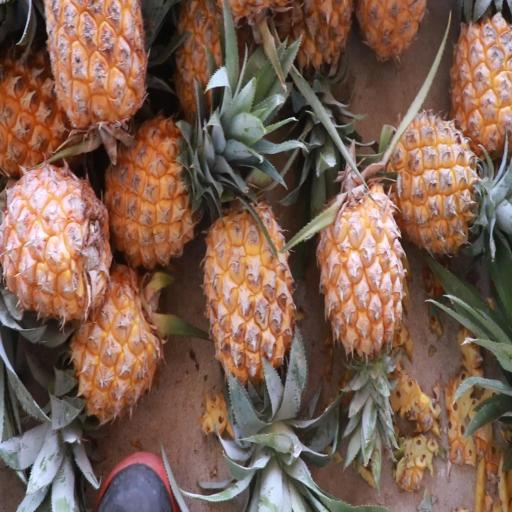Pineapple - v8 v1: (200, 198, 298, 401), (0, 160, 115, 326), (64, 263, 168, 433), (316, 180, 411, 366), (41, 0, 152, 155), (106, 108, 200, 273), (388, 106, 489, 255), (447, 0, 512, 163)
